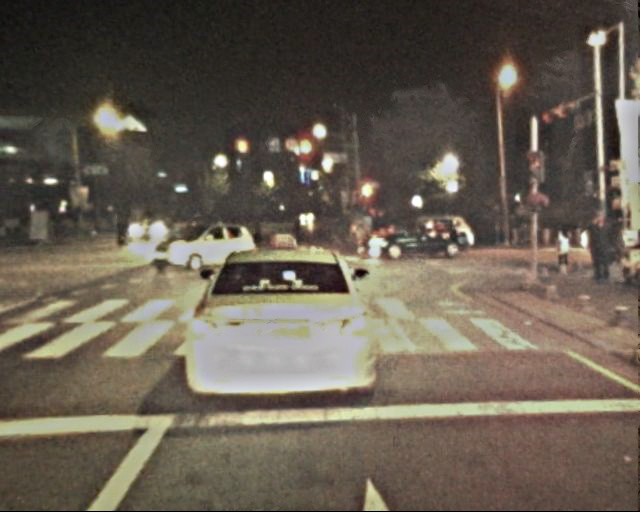person: (586, 217, 614, 285), (554, 226, 573, 272), (114, 209, 133, 247), (493, 218, 516, 248), (285, 215, 299, 250), (248, 215, 261, 247)
